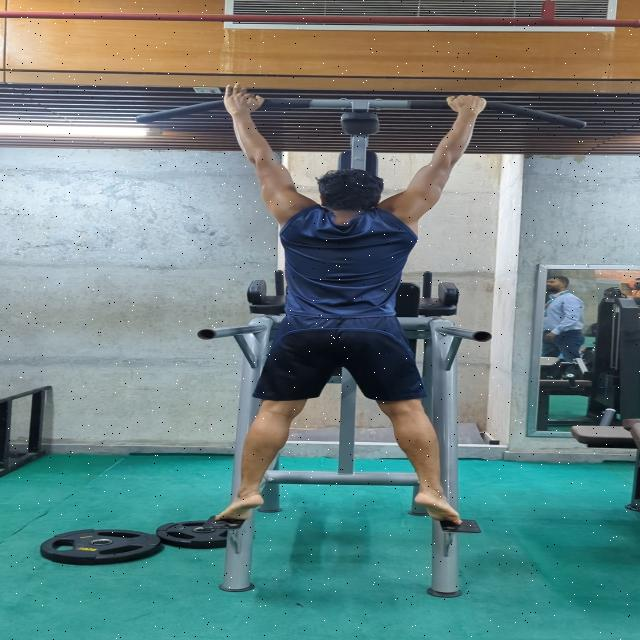Normal_PullUps: (198, 82, 500, 528)
